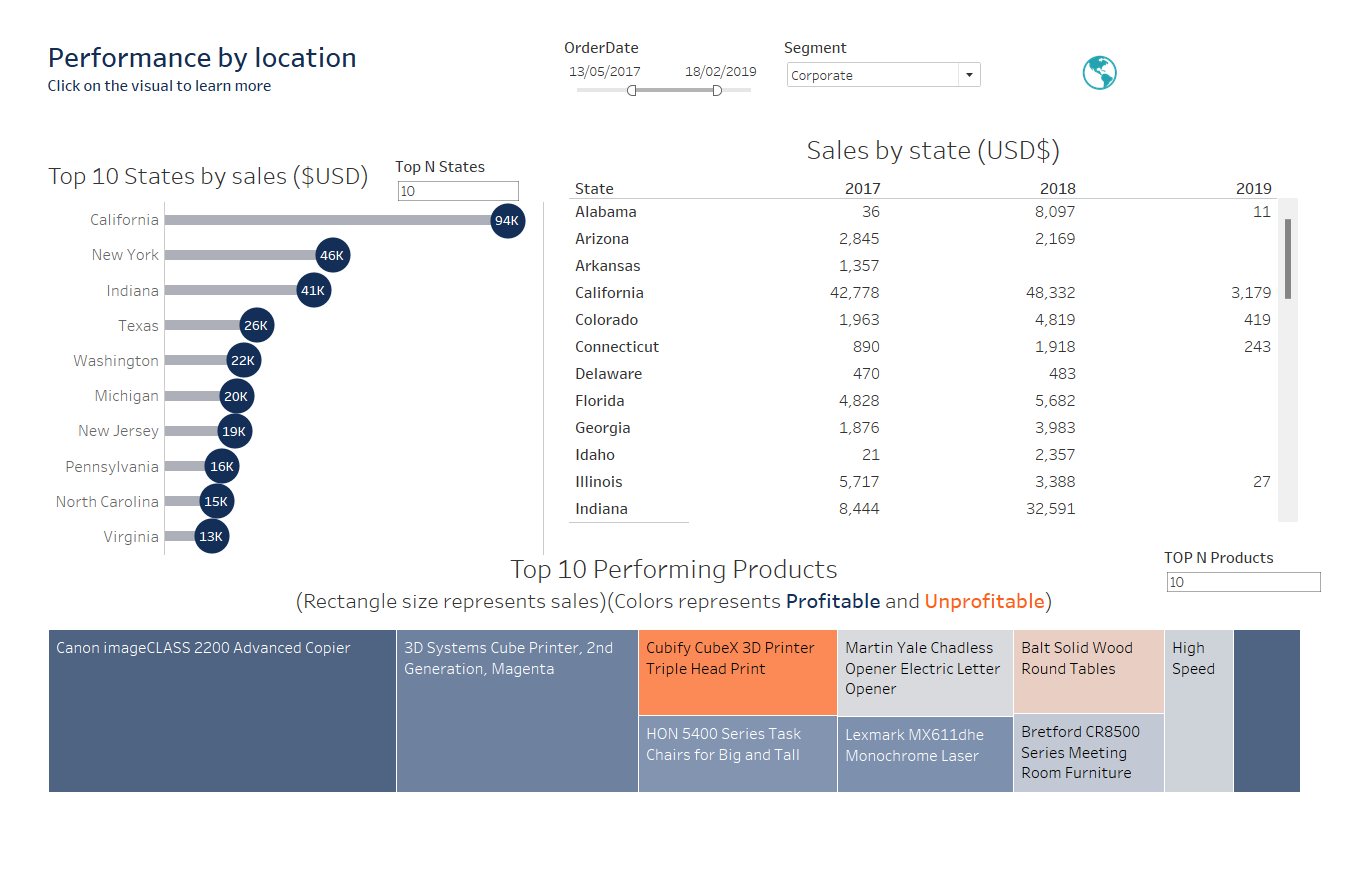

Layout of this report page (visuals, bound fields, positions):
{"tool":"tableau","page":{"name":"Performance by location Dashboard","canvas":[1300,800],"ordinal":0},"visuals":[{"type":"text","box":[20,20,500,60]},{"type":"filter","title":"SalesByState_LOL","param":"[federated.12y03hx0rq7voi18qg58o0swesog].[none:OrderDate:qk]","box":[540,20,200,60]},{"type":"filter","title":"SalesByState_LOL","param":"[federated.12y03hx0rq7voi18qg58o0swesog].[none:Segment:nk]","box":[760,20,200,60]},{"type":"dashboard-object","box":[1023,34,104,43]},{"type":"worksheet","title":"SalesByState","mark":"Automatic","rows":["State"],"cols":["OrderDate"],"box":[541,107,737,403]},{"type":"worksheet","title":"Sales_Map","mark":"Multipolygon","box":[540,110,740,400]},{"type":"worksheet","title":"SalesByState_LOL","mark":"Automatic","rows":["State"],"cols":["Sales","Sales"],"box":[20,138,500,400]},{"type":"parameter","param":"[Parameters].[Parameter 3]","box":[371,139,127,48]},{"type":"legend","title":"Sales_Map","param":"[federated.12y03hx0rq7voi18qg58o0swesog].[none:Region:nk]","box":[1122,400,152,106]},{"type":"worksheet","title":"TopProducts_Tree","mark":"Square","box":[20,530,1260,250]},{"type":"parameter","param":"[Parameters].[Parameter 4]","box":[1140,530,160,48]}]}

Visuals, with their boxes on the page's 1300x800 design canvas (x1, y1, x2, y2). These are canvas units, not pixel positions in the 1369x882 screenshot, which may show the page scaled, cropped or inside an application window:
text: left=20, top=20, right=520, bottom=80
"SalesByState_LOL" filter: left=540, top=20, right=740, bottom=80
"SalesByState_LOL" filter: left=760, top=20, right=960, bottom=80
dashboard-object: left=1023, top=34, right=1127, bottom=77
"SalesByState" worksheet: left=541, top=107, right=1278, bottom=510
"Sales_Map" worksheet (Multipolygon marks): left=540, top=110, right=1280, bottom=510
"SalesByState_LOL" worksheet: left=20, top=138, right=520, bottom=538
parameter: left=371, top=139, right=498, bottom=187
"Sales_Map" legend: left=1122, top=400, right=1274, bottom=506
"TopProducts_Tree" worksheet (Square marks): left=20, top=530, right=1280, bottom=780
parameter: left=1140, top=530, right=1300, bottom=578
